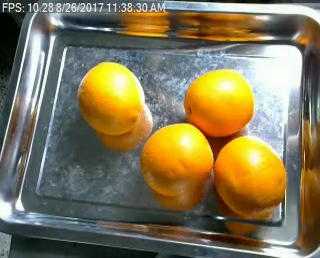Orange: (214, 136, 288, 215), (140, 122, 214, 196), (77, 60, 145, 135), (183, 69, 254, 138)
